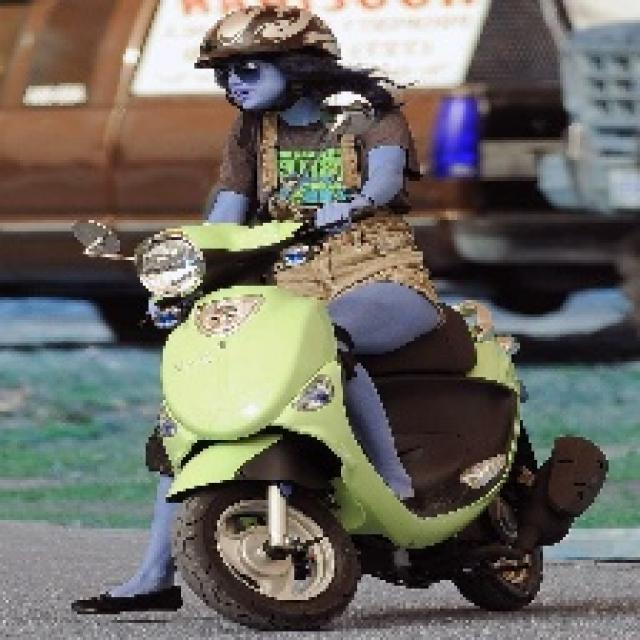bike: (148, 245, 570, 620)
